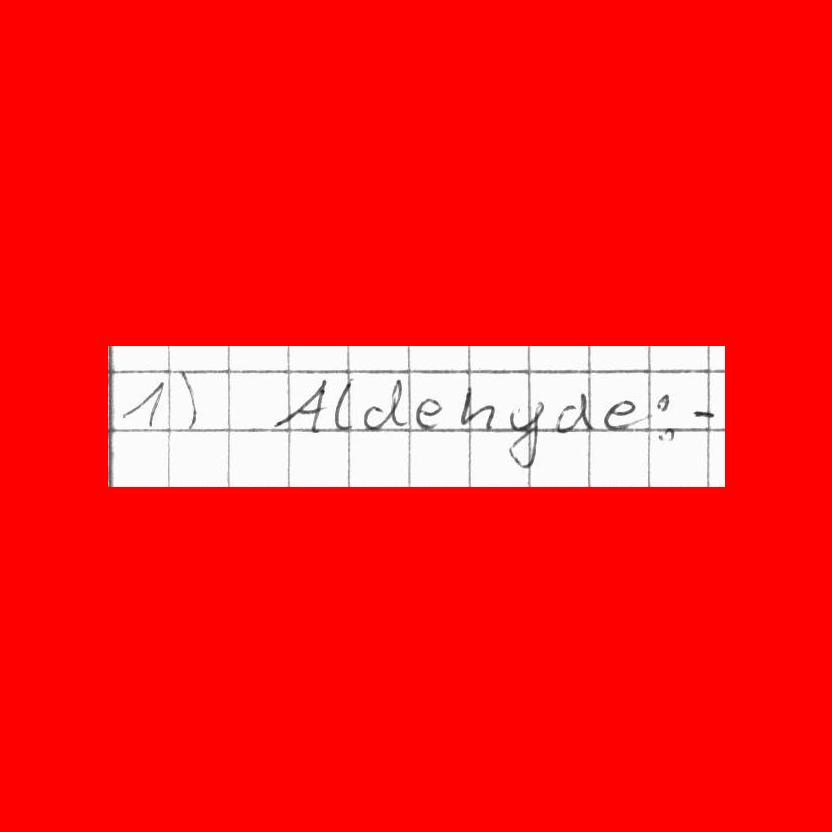Char: (505, 398, 546, 470), (120, 376, 170, 432), (275, 378, 326, 432), (364, 376, 406, 430), (552, 391, 594, 432), (172, 372, 202, 429), (459, 385, 495, 432), (332, 378, 354, 431), (604, 397, 636, 431), (415, 395, 443, 430), (653, 391, 675, 418), (689, 405, 715, 425), (656, 426, 678, 444)
